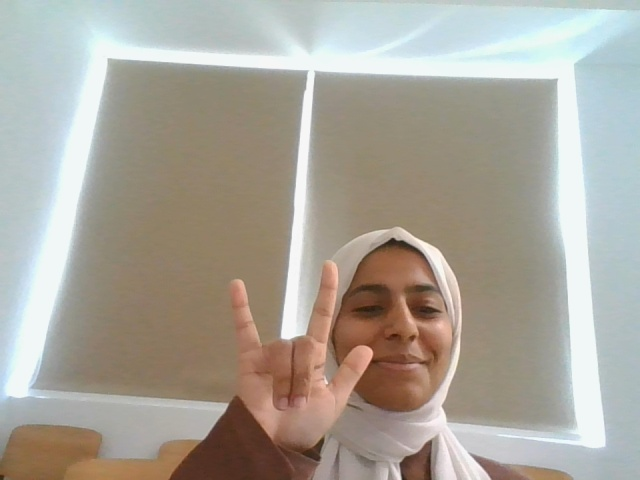love: (212, 257, 374, 445)
